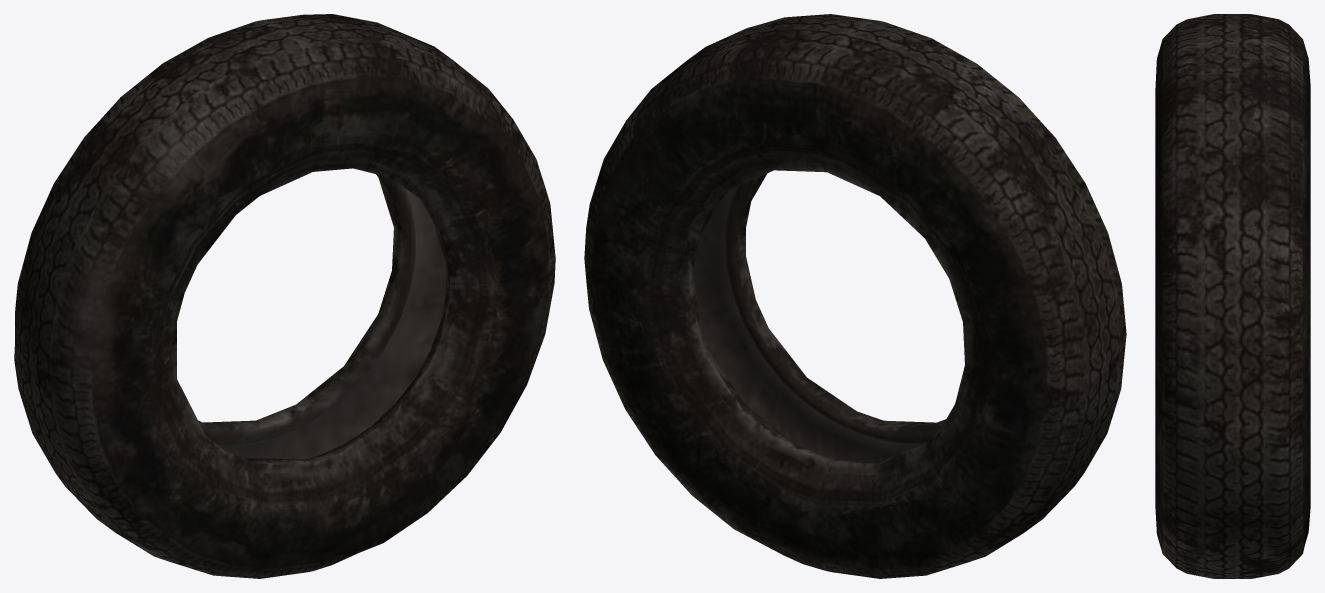
The model's file is reifen.glb.
The picture shows the model from 3 angles, left to right: view 1: azimuth 30°, elevation 25°; view 2: azimuth 150°, elevation 25°; view 3: azimuth 270°, elevation 25°; orthographic projection. The views are drawn at different scales.
Parts seen in each view (by area): view 1: old_tyre; view 2: old_tyre; view 3: old_tyre.
Boxes of the visible parts, <box> form: old_tyre: <box>14,14,555,578</box>; old_tyre: <box>584,14,1126,578</box>; old_tyre: <box>1155,14,1310,578</box>.
Size of the model in its own units: 0.6 by 0.6 by 0.165.
Materials: 1 (1 with a texture image).
